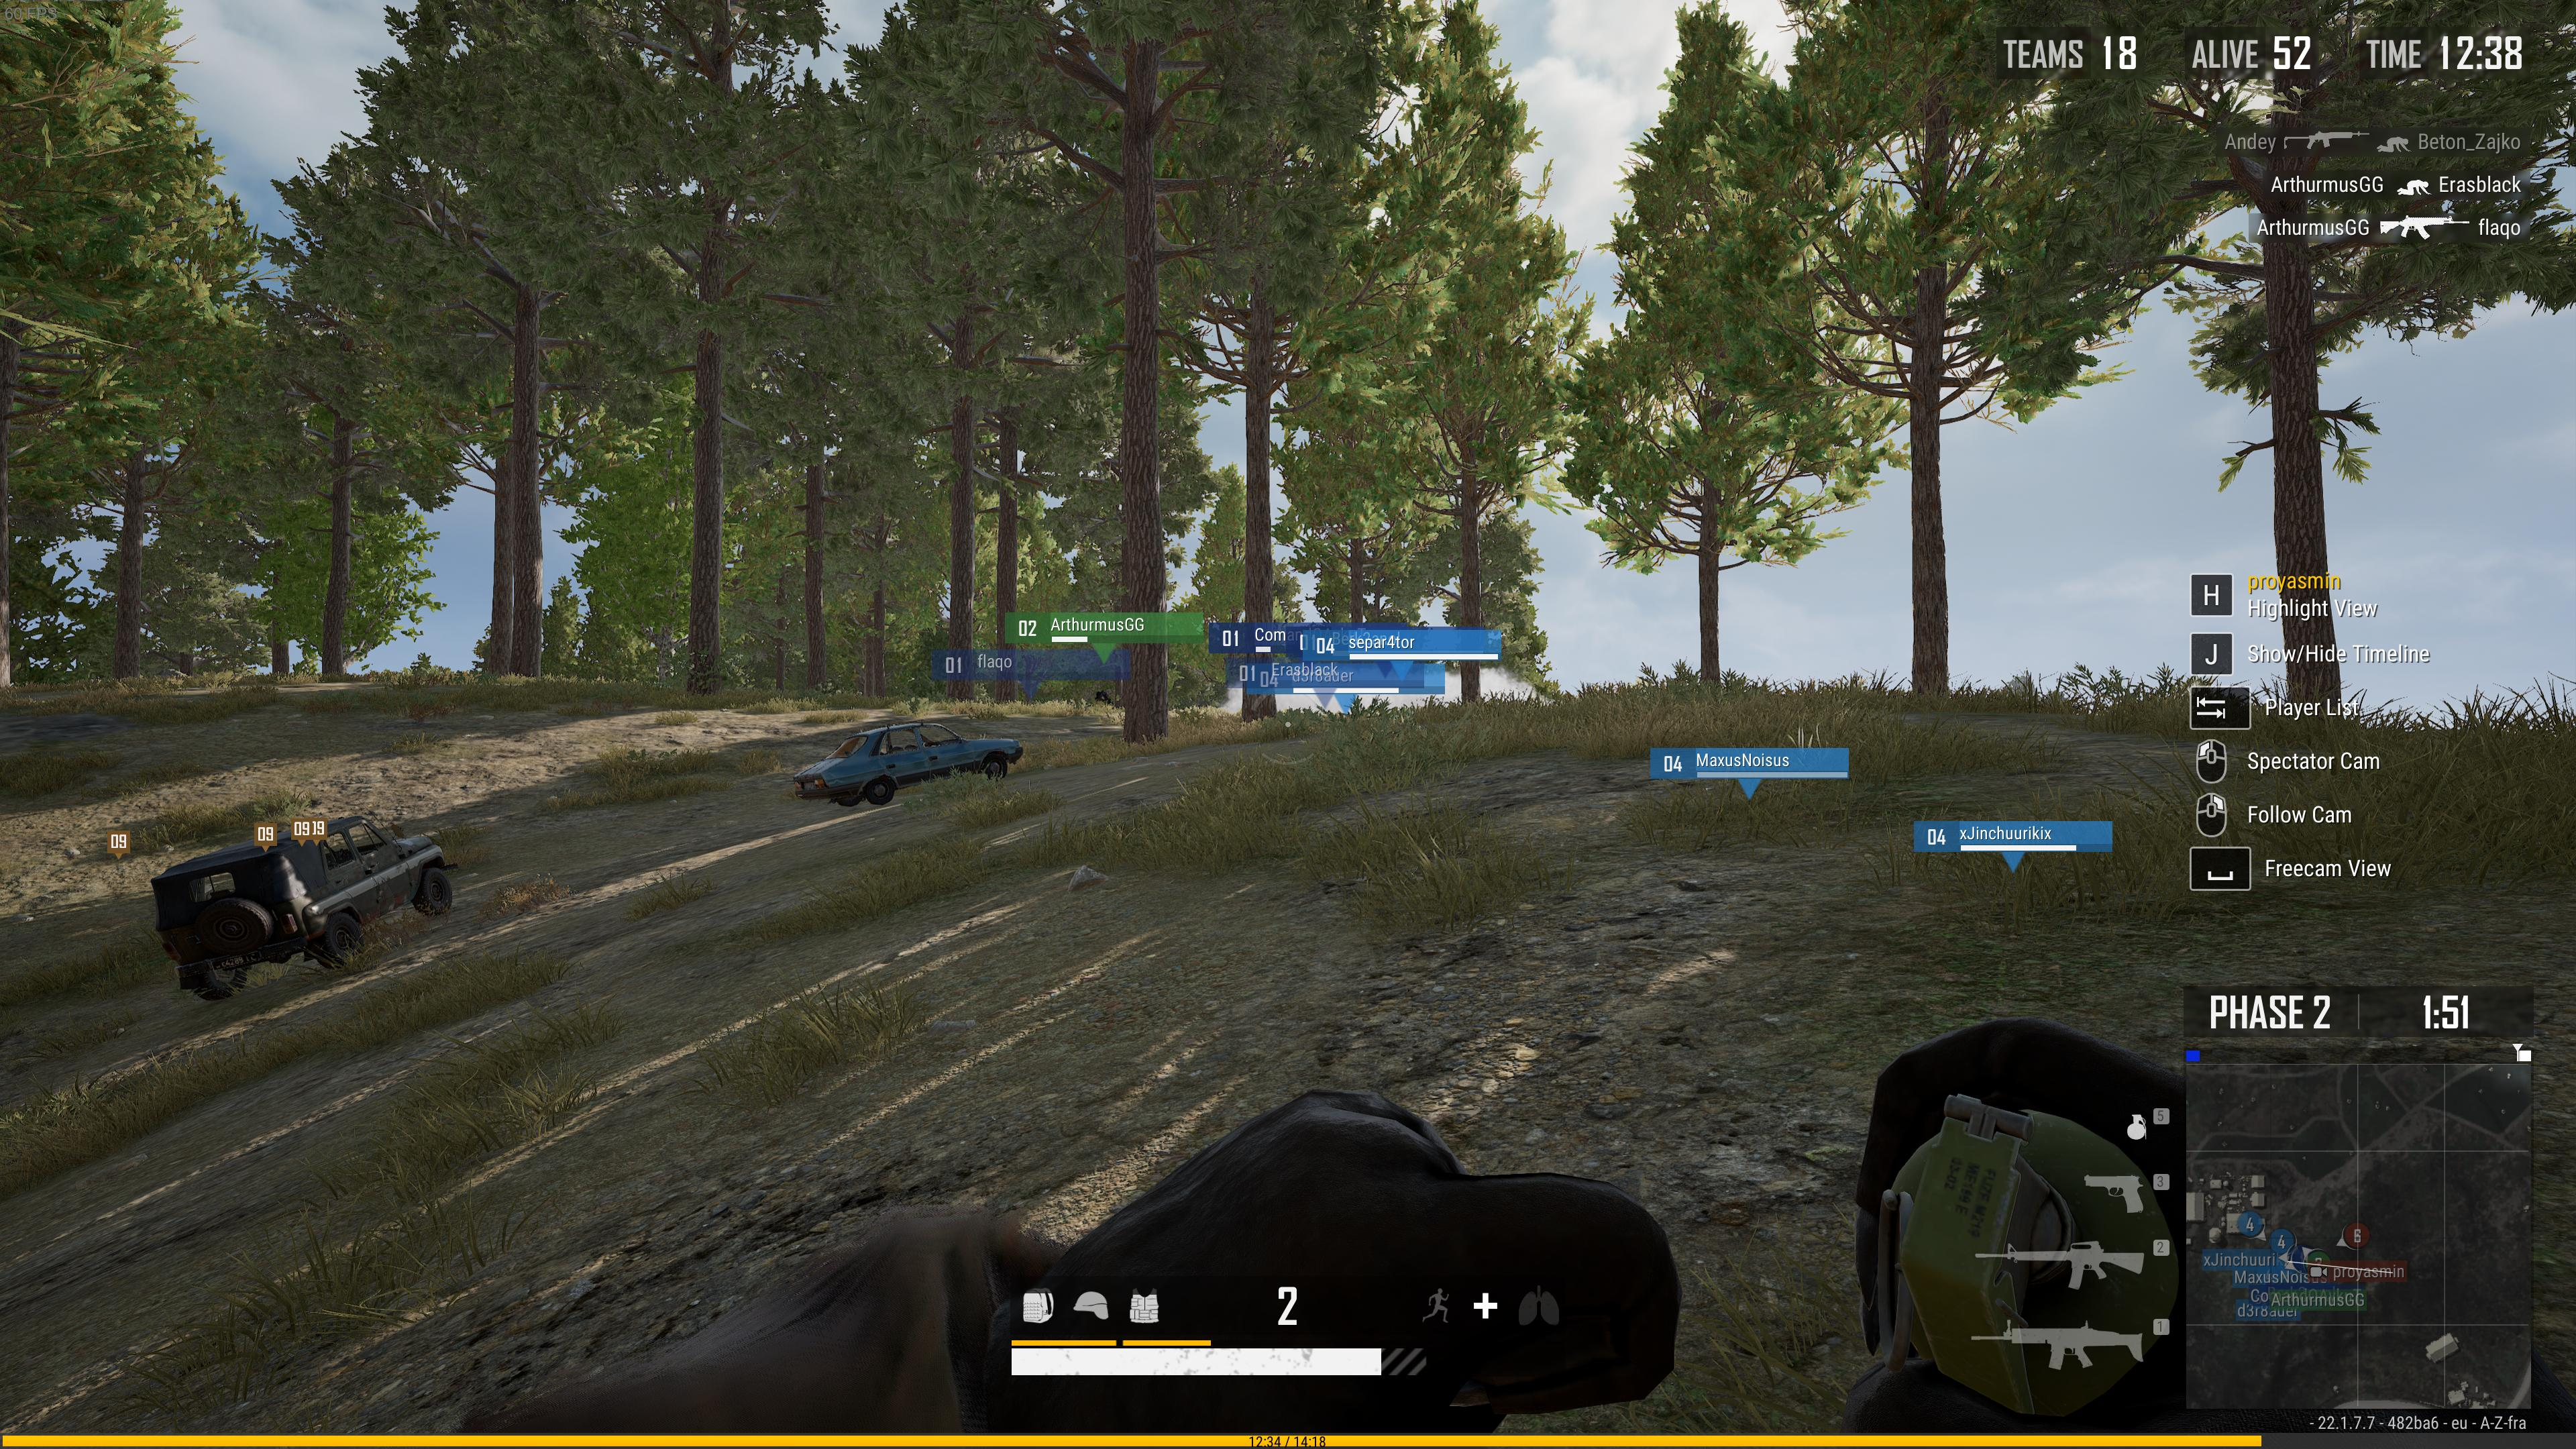enemy: (1093, 688, 1113, 708)
